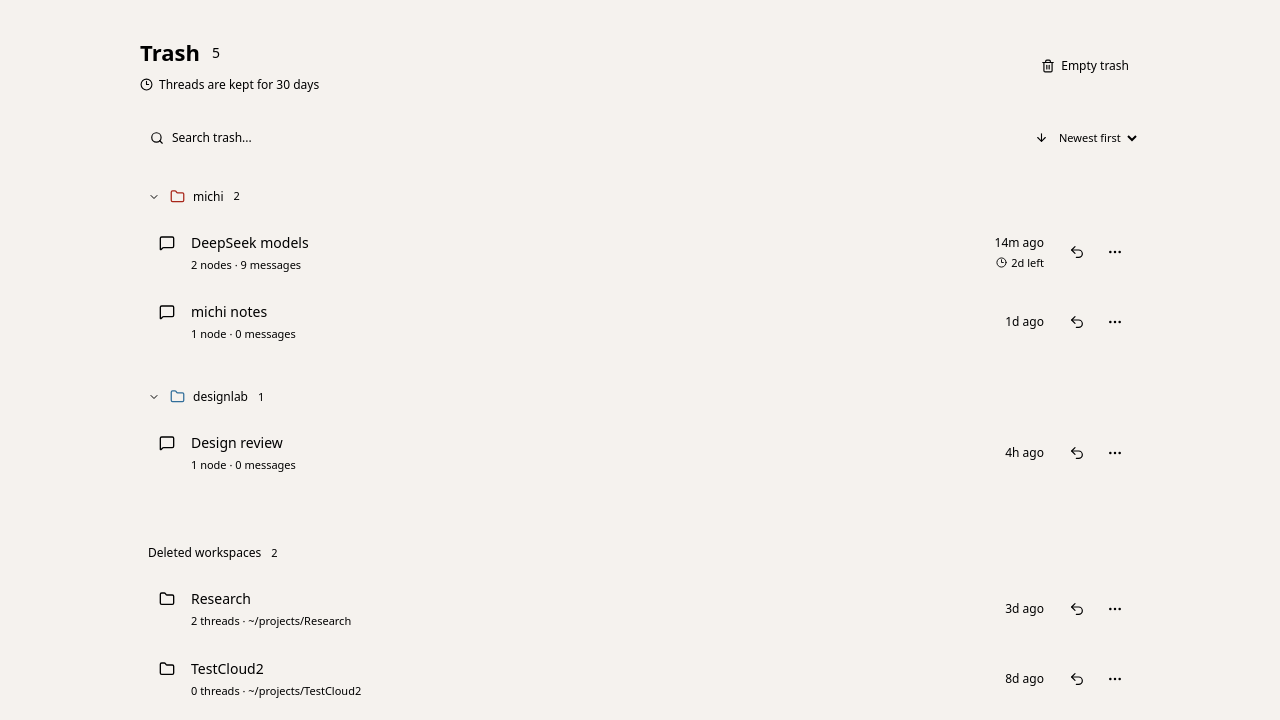
Test: Trash page › previews persisted assistant blocks read-only without opening a pane or fetching loaded messages
The width and height of the screenshot is (1280, 720).
Click the button with aria-label "Preview DeepSeek models" at [250, 242], box [148, 218, 922, 287]
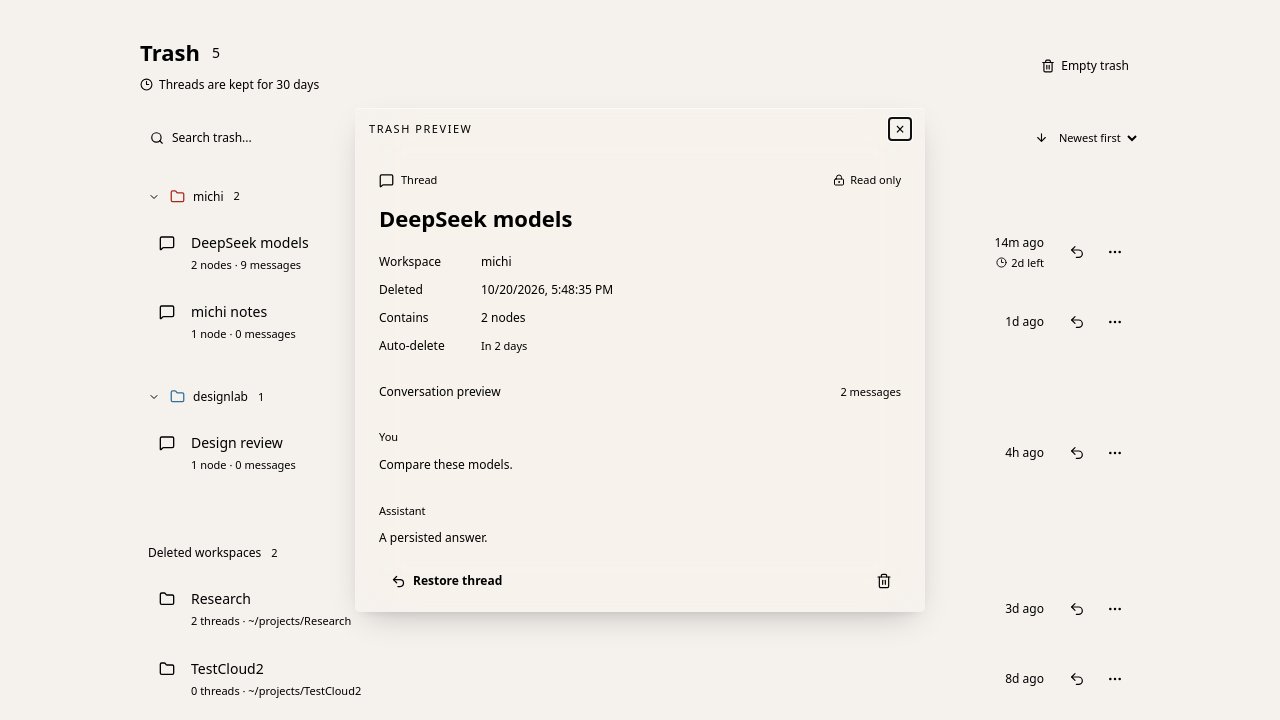
Now the text "A persisted answer." is shown, box [379, 529, 487, 546]
Now the text "Read only" is shown, box [833, 172, 901, 188]
